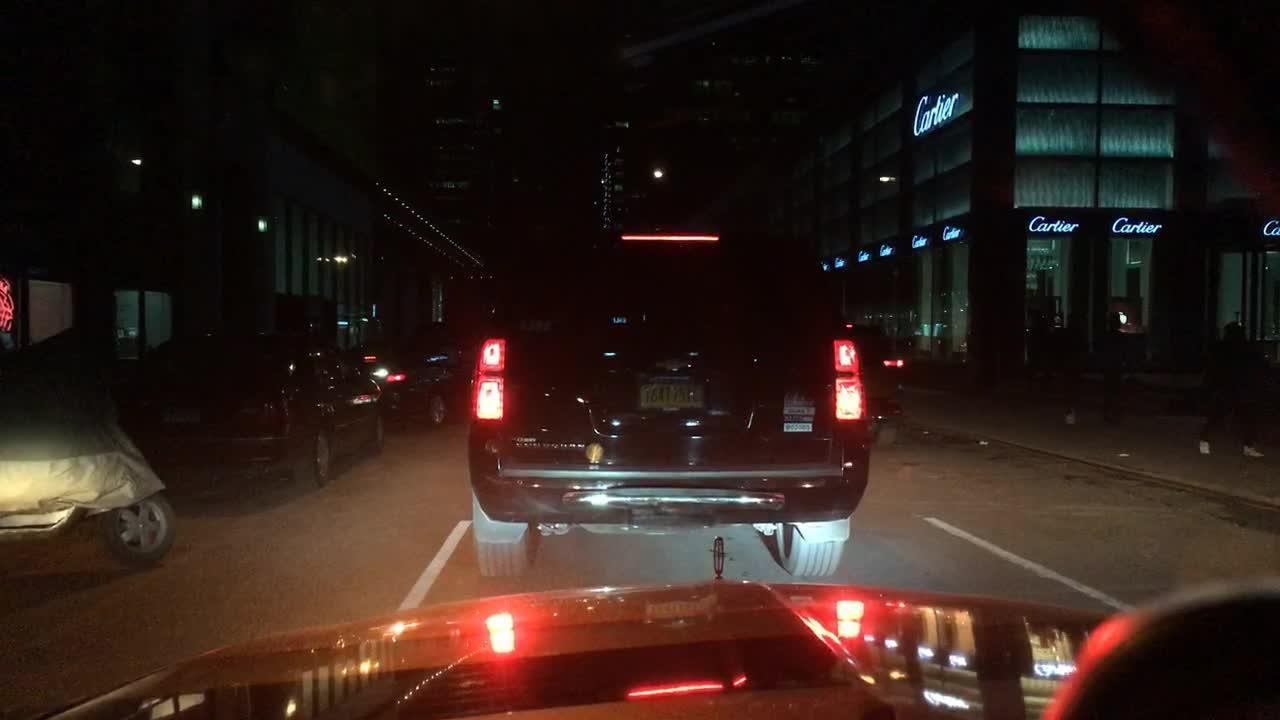chevrolet: (650, 349, 697, 375)
